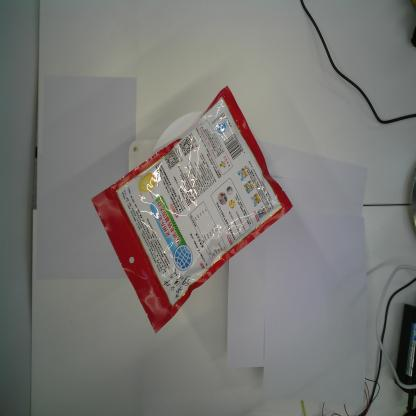Instant Drink: (89, 83, 294, 337)
